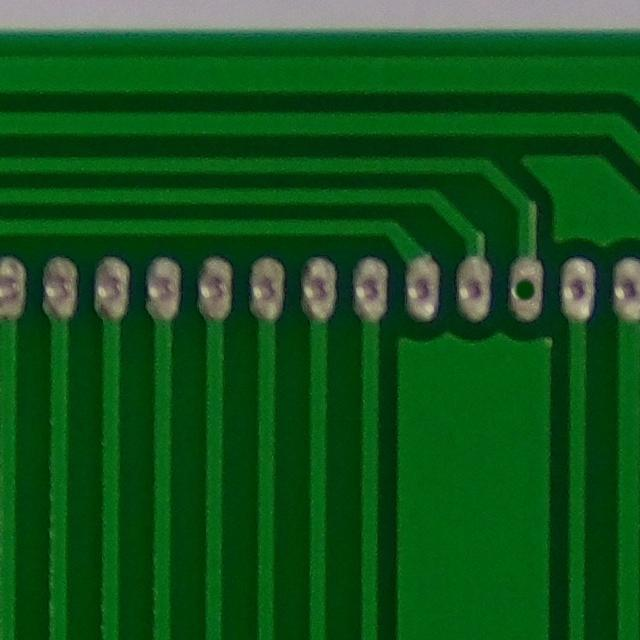missing_hole: (498, 259, 557, 323)
